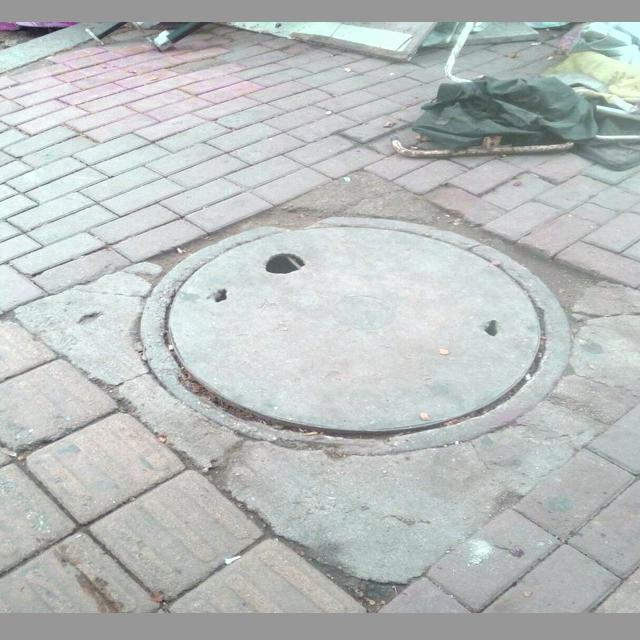broke: (138, 216, 577, 457)
